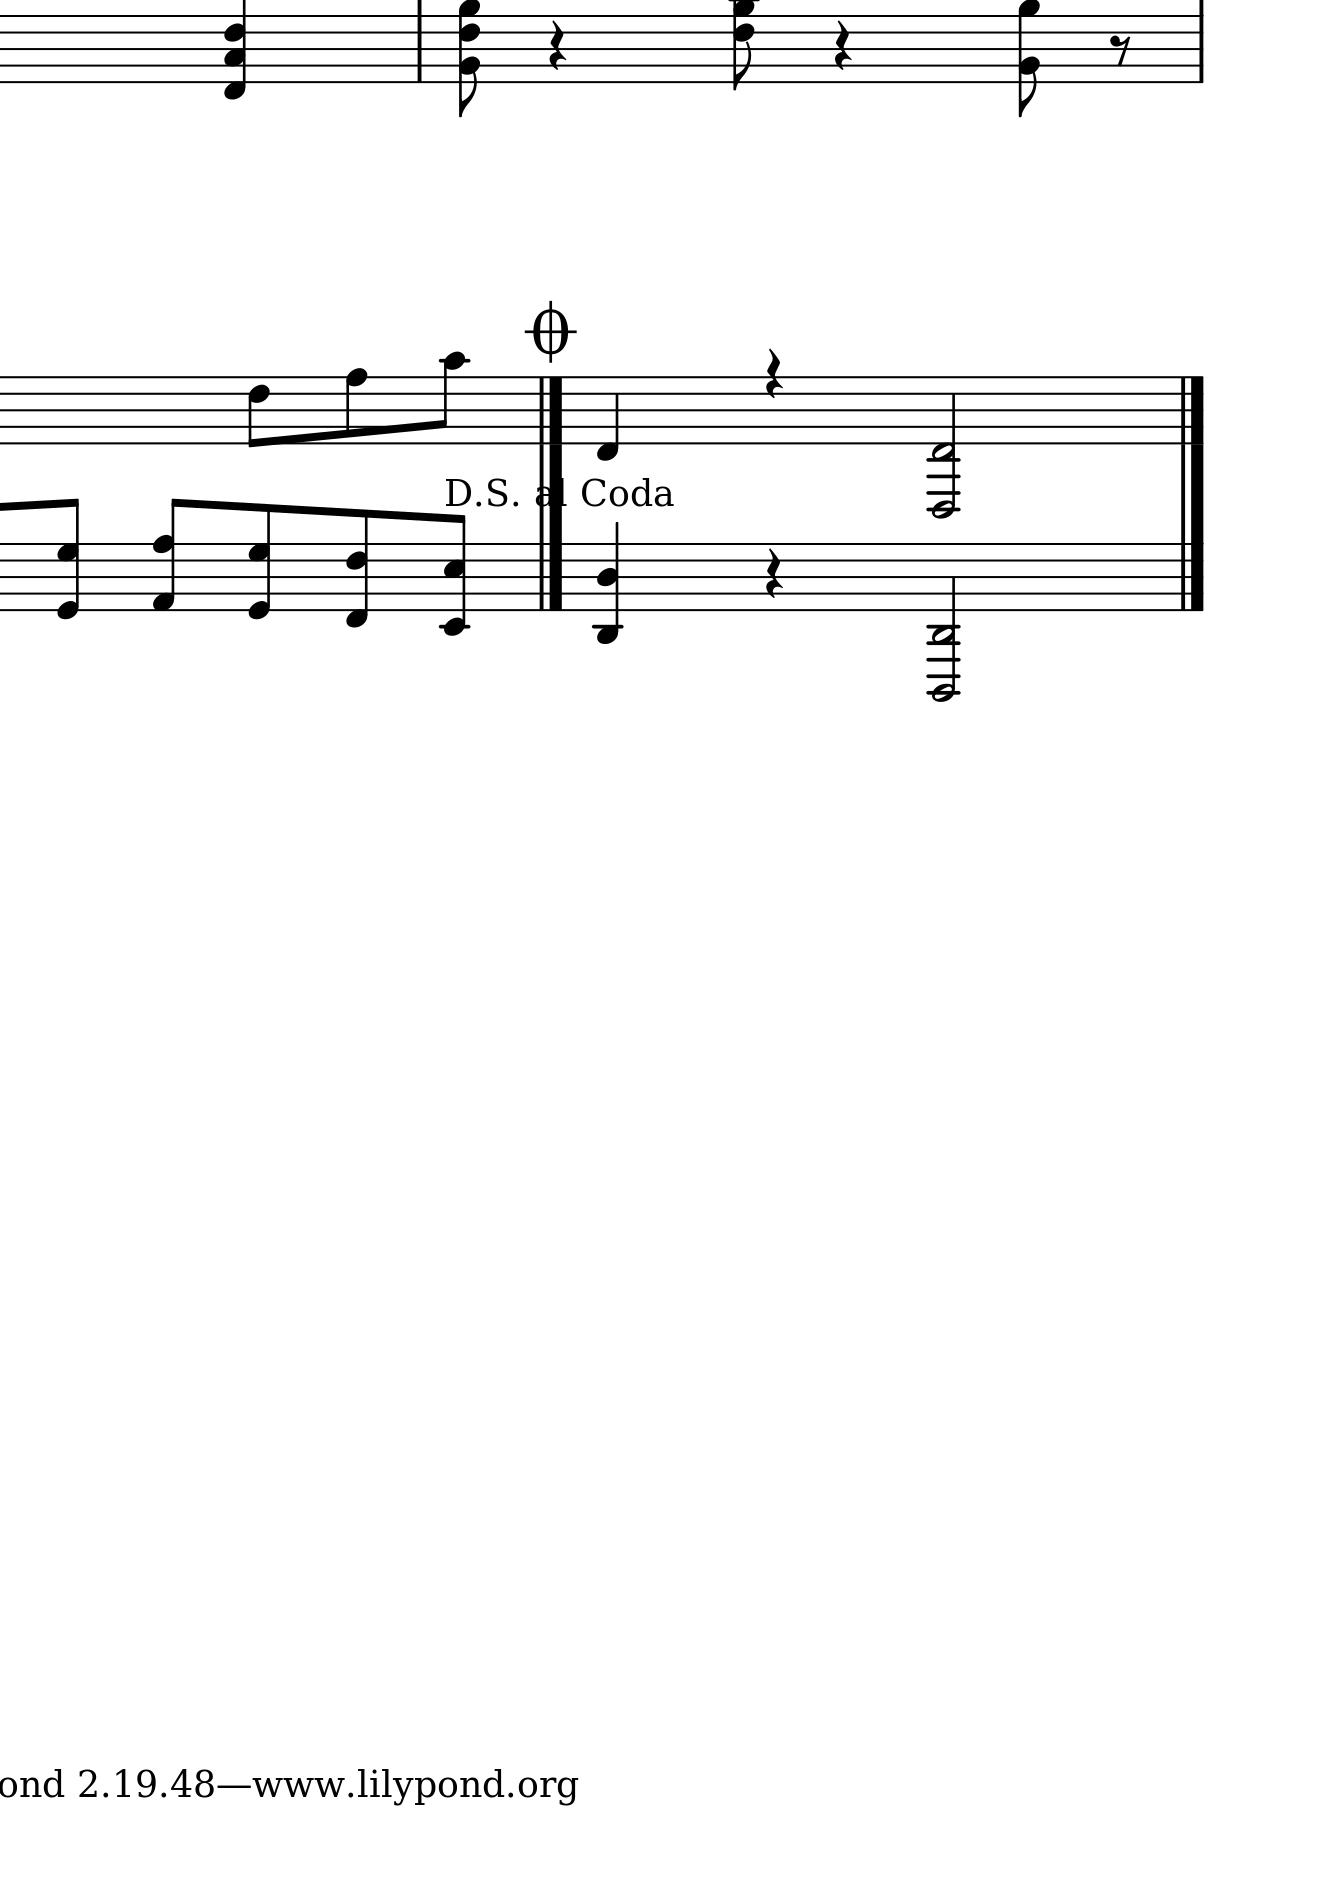2_-8_-1: (928, 376, 962, 520)
4_-1: (594, 376, 620, 462)
8_-1_6: (344, 507, 371, 630)
8_-2_5: (436, 512, 474, 638)
8_-3_4: (592, 522, 625, 646)
8_0_7: (56, 497, 82, 622), (248, 502, 273, 620)
8_10: (432, 350, 466, 446)
8_1_8: (151, 497, 189, 615)
8_2_9: (1018, 1, 1044, 119)
8_6: (245, 374, 271, 450)
8_8: (343, 367, 368, 448)
8_th: (453, 1, 481, 119)
Coda: (525, 299, 574, 361)
DSalcoda: (440, 473, 679, 512)
Final_barline: (533, 376, 564, 443), (1176, 376, 1206, 445), (1175, 543, 1203, 610)
Rests4: (544, 19, 569, 73), (831, 19, 854, 73), (761, 547, 784, 600), (763, 347, 783, 402)
Rests8: (1107, 33, 1131, 66)
RightRepeatSign: (528, 543, 566, 610)
Single_barline: (1190, 14, 1211, 83), (412, 16, 427, 83)
